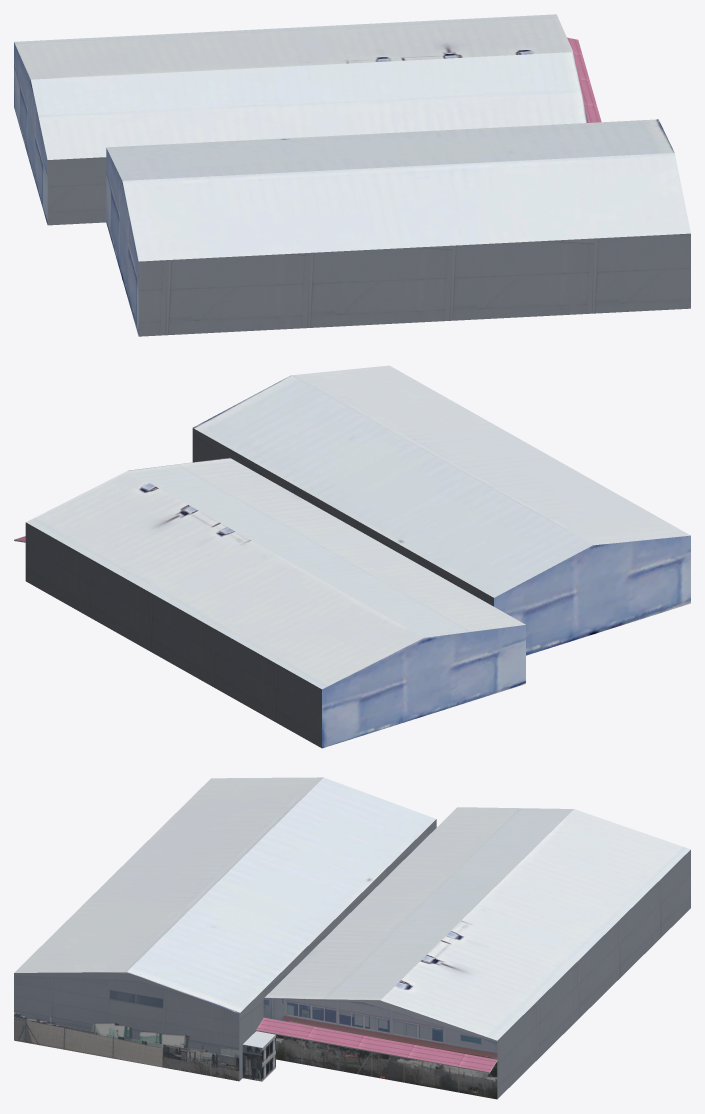
The model's file is Lecu_extrafinal.gltf.
3 renders of one model, top to bottom at view 1: azimuth 30°, elevation 25°; view 2: azimuth 150°, elevation 25°; view 3: azimuth 270°, elevation 25°, orthographic. The views are drawn at different scales.
Visible parts, largest first — view 1: hangares_extrafinal; view 2: hangares_extrafinal; view 3: hangares_extrafinal.
Boxes of the visible parts, x1,y1,x2,y2 form: hangares_extrafinal: [14, 14, 690, 336]; hangares_extrafinal: [14, 365, 690, 748]; hangares_extrafinal: [14, 777, 690, 1099].
Bounding box in the file's own units: 62.93 × 9.98 × 68.93.
